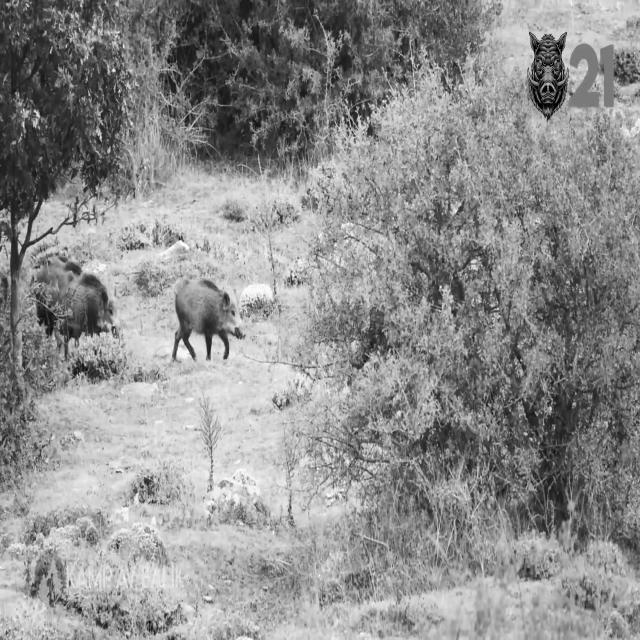boar: (34, 259, 118, 357), (172, 279, 244, 360)
